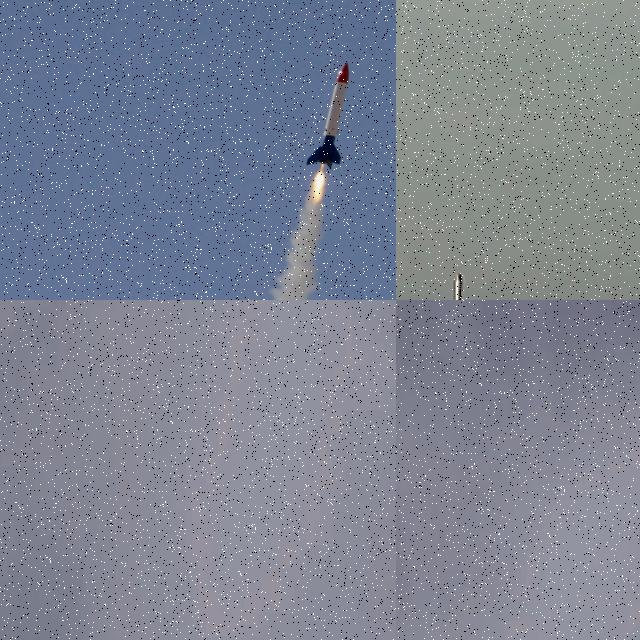Rocket: (307, 62, 351, 170), (450, 273, 466, 300)
